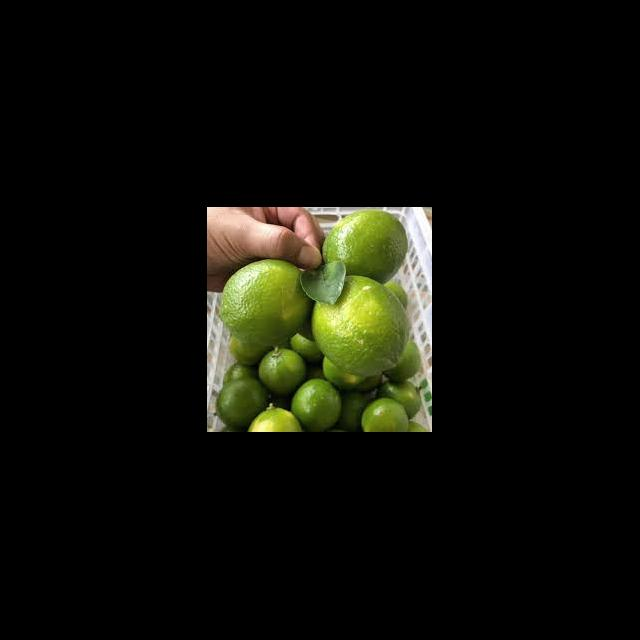lime: (307, 269, 415, 383), (218, 255, 319, 353), (313, 208, 413, 280), (289, 378, 345, 430), (257, 343, 309, 398), (216, 377, 274, 426), (375, 379, 423, 423), (360, 395, 410, 432), (247, 403, 304, 432)
